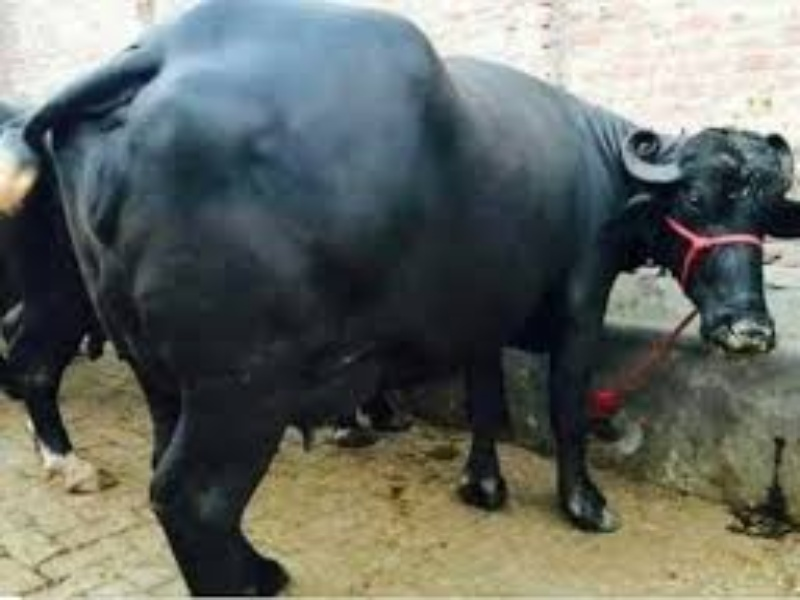buffalo: (44, 27, 783, 534)
